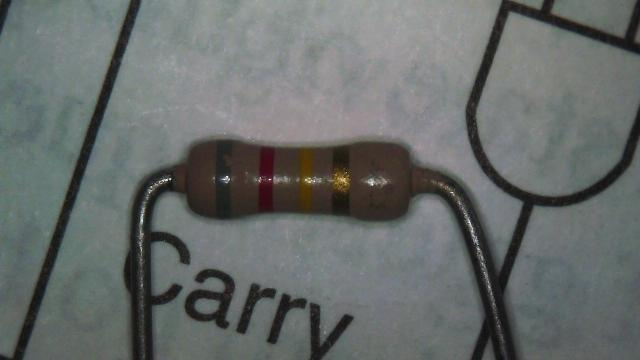gold: (332, 146, 350, 214)
grey: (216, 138, 232, 218)
red: (259, 146, 274, 211)
resistor: (151, 115, 446, 249)
yellow: (299, 148, 314, 211)
